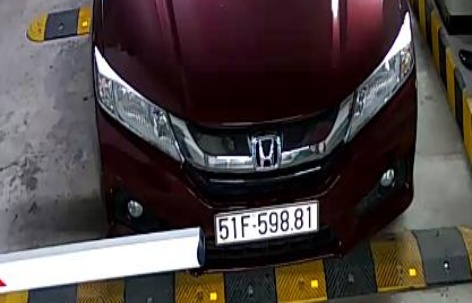plate: (208, 198, 329, 245)
